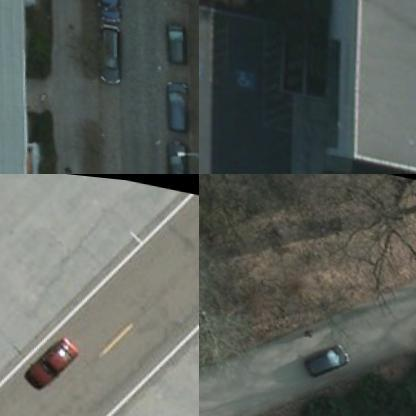car: (16, 326, 87, 402), (92, 23, 127, 80), (302, 337, 348, 379), (158, 76, 192, 130), (159, 15, 187, 64), (157, 136, 191, 173), (92, 0, 127, 23)
